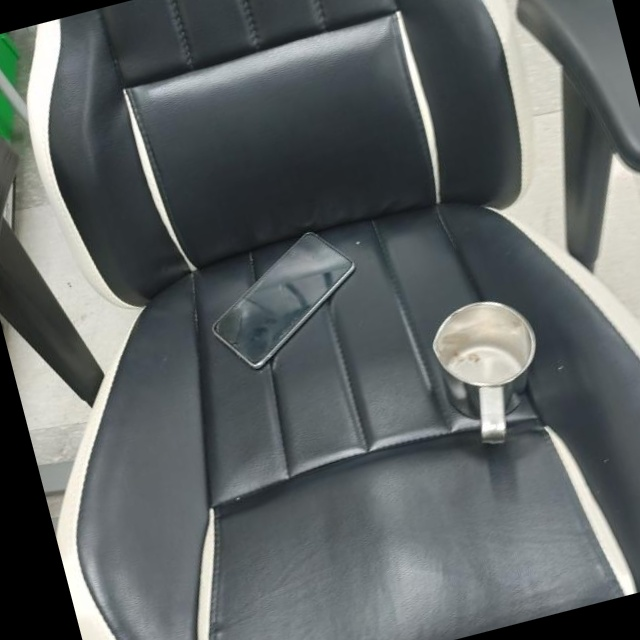cup: (422, 287, 561, 457)
phone: (192, 220, 375, 380)
